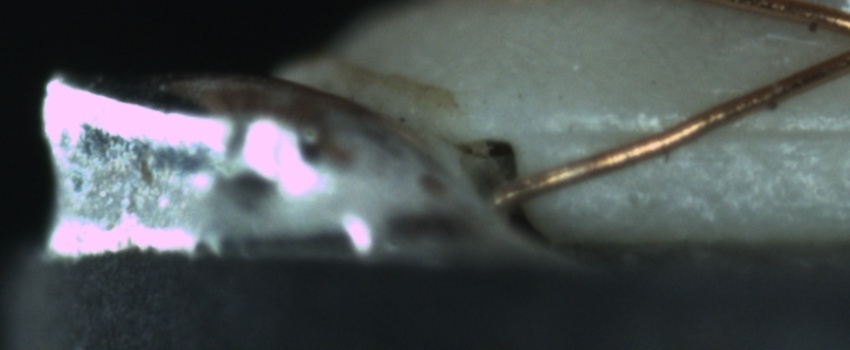DL: (551, 100, 849, 163)
